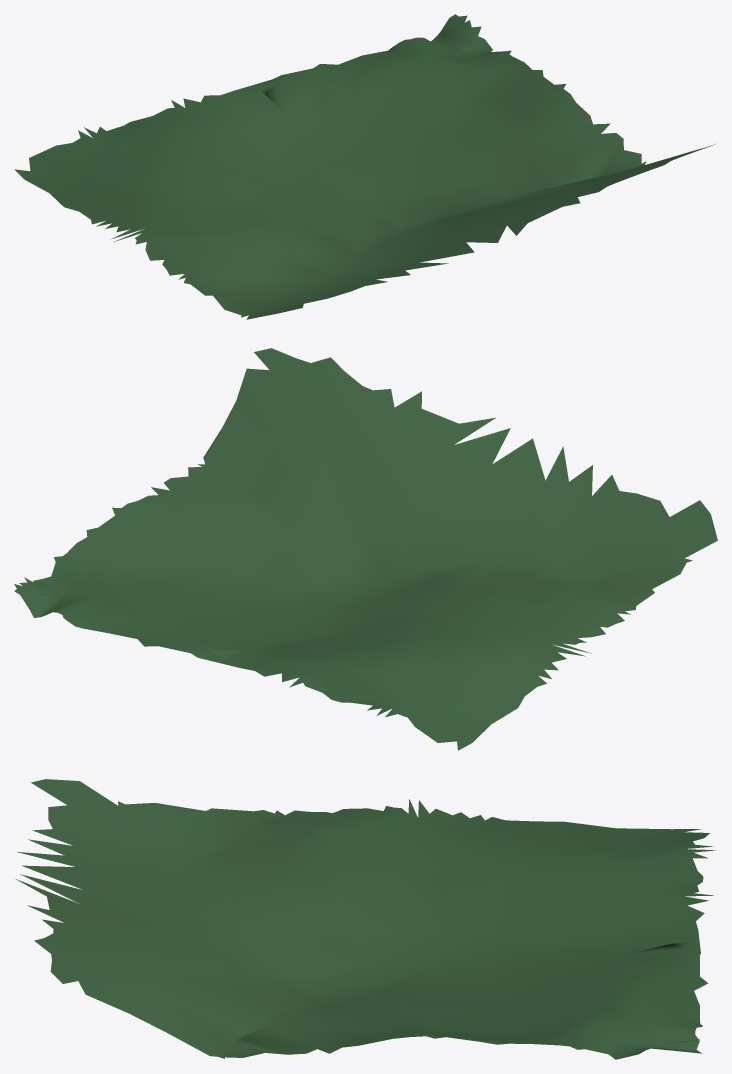
Rendered from payo_land_xm2_y9_lod2.glb.
The picture shows the model from 3 angles, top to bottom: view 1: azimuth 30°, elevation 25°; view 2: azimuth 150°, elevation 25°; view 3: azimuth 270°, elevation 25°; orthographic projection. The views are drawn at different scales.
Parts seen in each view (by area): view 1: payo_land_xm2_y9; view 2: payo_land_xm2_y9; view 3: payo_land_xm2_y9.
Boxes of the visible parts, bbox=[...] form: payo_land_xm2_y9: bbox=[14, 14, 715, 319]; payo_land_xm2_y9: bbox=[14, 348, 717, 750]; payo_land_xm2_y9: bbox=[16, 779, 715, 1059].
Bounding box in the file's own units: 271 × 59.76 × 276.
